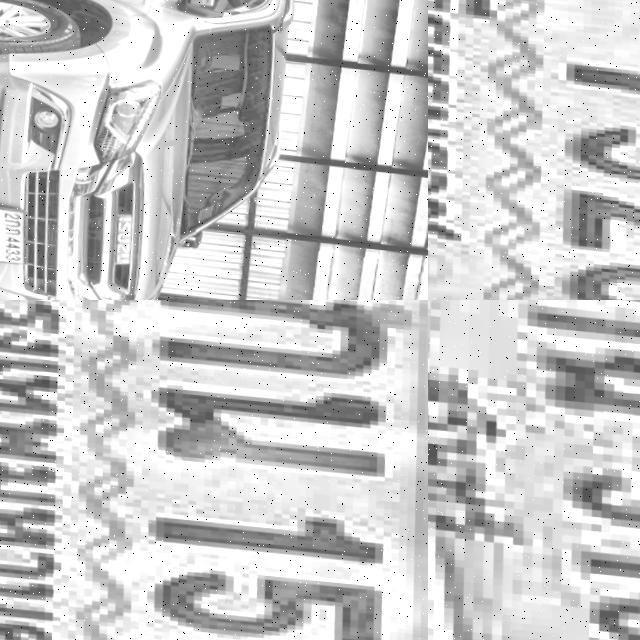license-plate: (0, 300, 428, 640), (428, 300, 640, 640), (428, 0, 640, 300), (0, 199, 29, 265)
